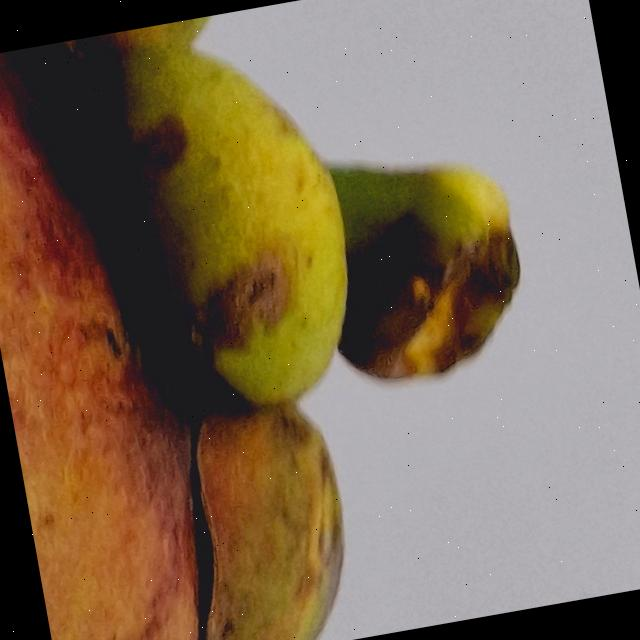mangosteen: (0, 0, 621, 640)
